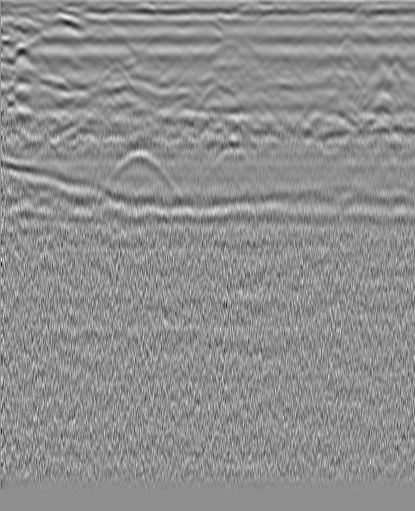가스: (0, 180, 415, 228)
